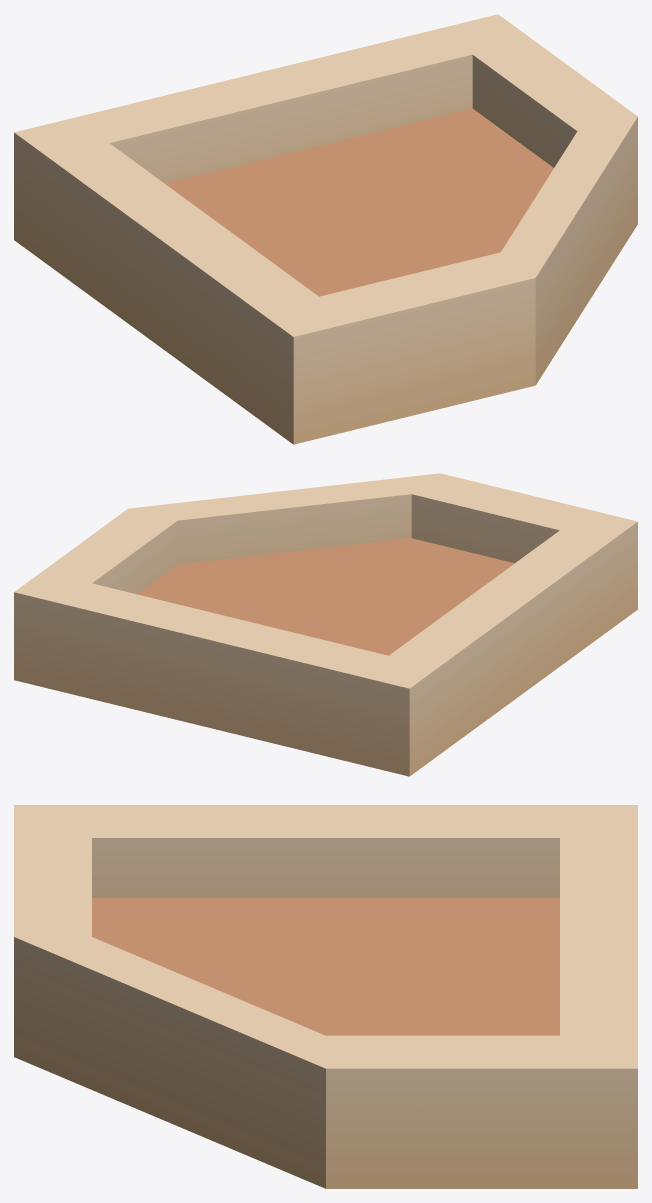
File: roof-flat-border-center-corner.glb
The picture shows the model from 3 angles, top to bottom: view 1: azimuth 30°, elevation 25°; view 2: azimuth 150°, elevation 25°; view 3: azimuth 270°, elevation 25°; orthographic projection. The views are drawn at different scales.
Parts seen in each view (by area): view 1: roof-flat-border-center-corner; view 2: roof-flat-border-center-corner; view 3: roof-flat-border-center-corner.
Part boxes in pixels (<box>): roof-flat-border-center-corner: <box>14,14,637,444</box>; roof-flat-border-center-corner: <box>14,473,637,776</box>; roof-flat-border-center-corner: <box>14,805,637,1188</box>.
Size of the model in its own units: 1 by 0.2125 by 1.
Materials: 1 (1 with a texture image).
